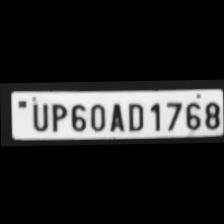0: (86, 99, 106, 130)
1: (145, 99, 163, 130)
6: (66, 99, 86, 130), (180, 98, 200, 129)
7: (160, 98, 180, 130)
8: (200, 98, 220, 130)
A: (106, 98, 124, 130)
D: (123, 99, 145, 130)
P: (47, 99, 66, 130)
U: (26, 99, 48, 130)
